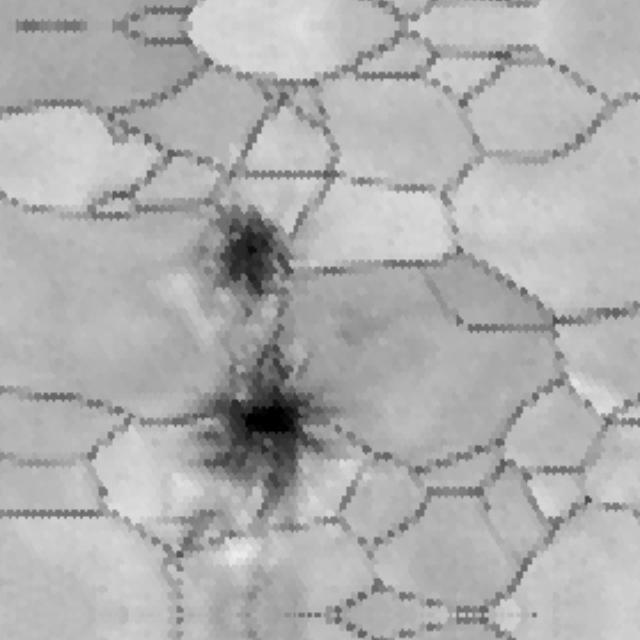good_void: (177, 327, 345, 525), (190, 191, 314, 330), (167, 504, 242, 565)
